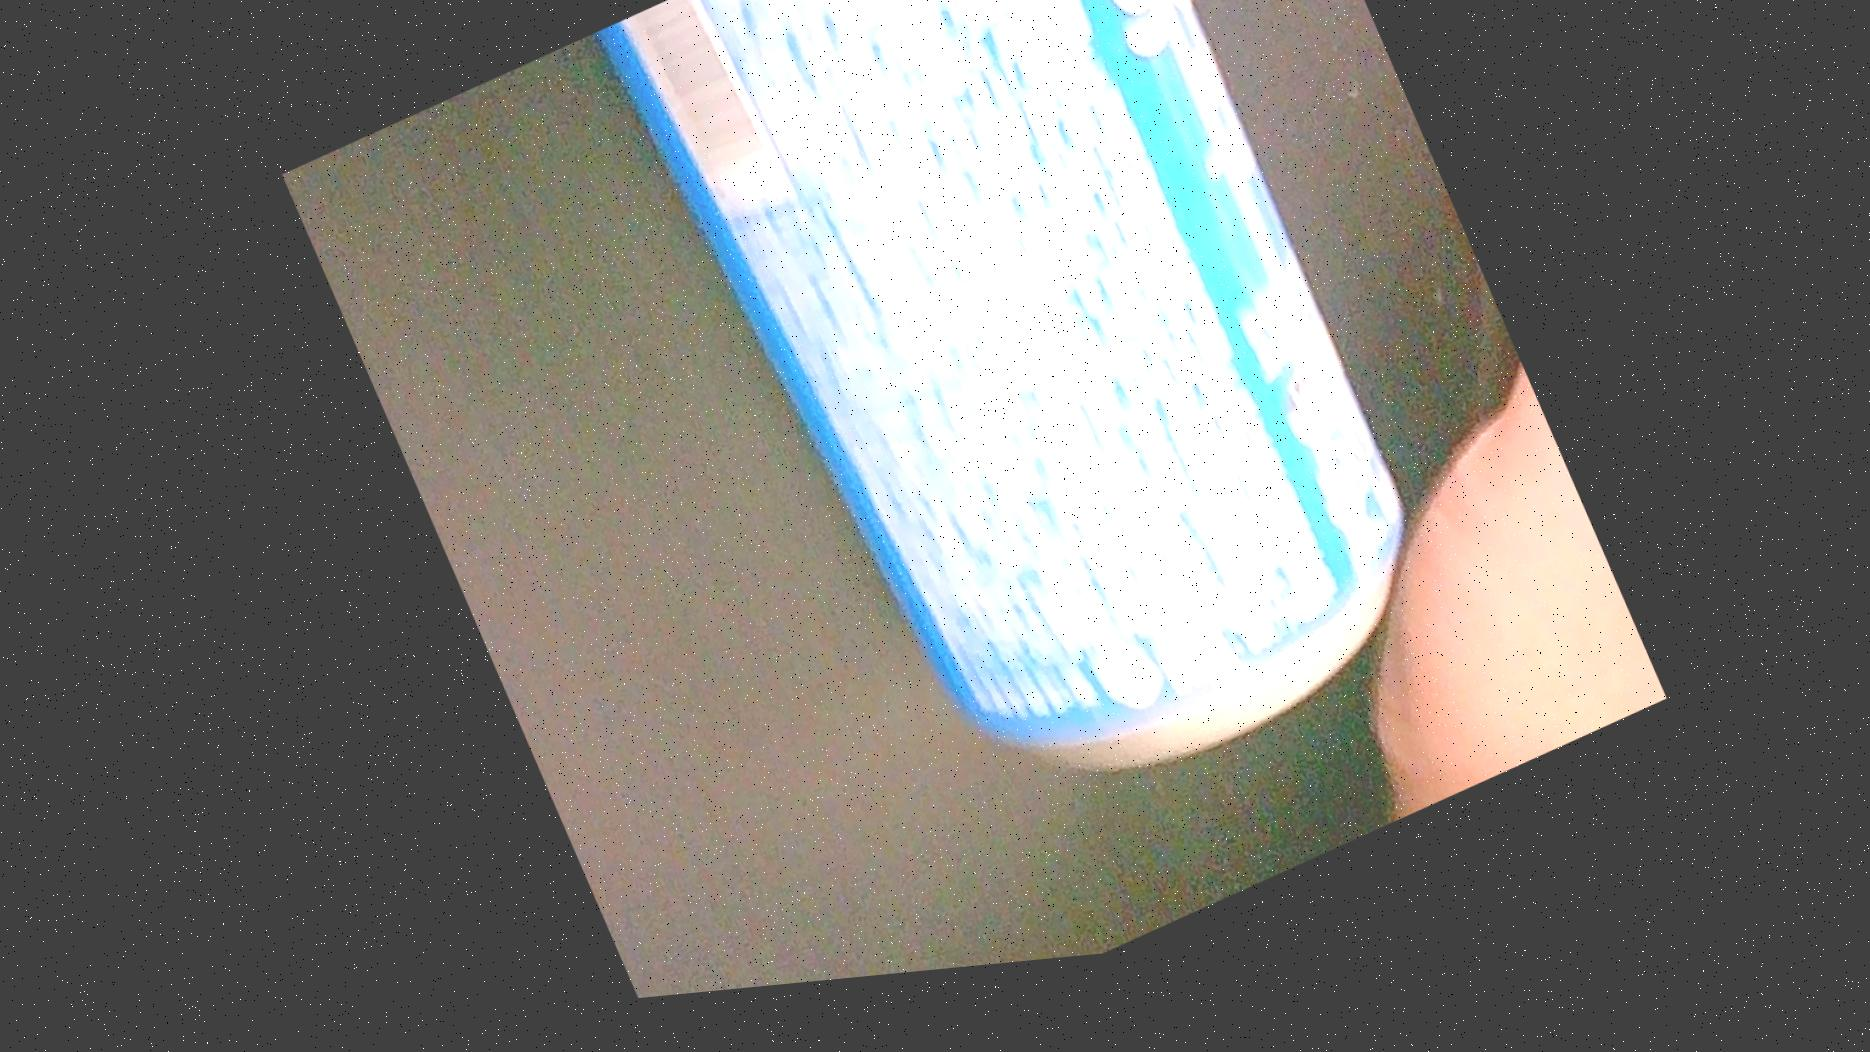letsbe: (578, 0, 1468, 905)
